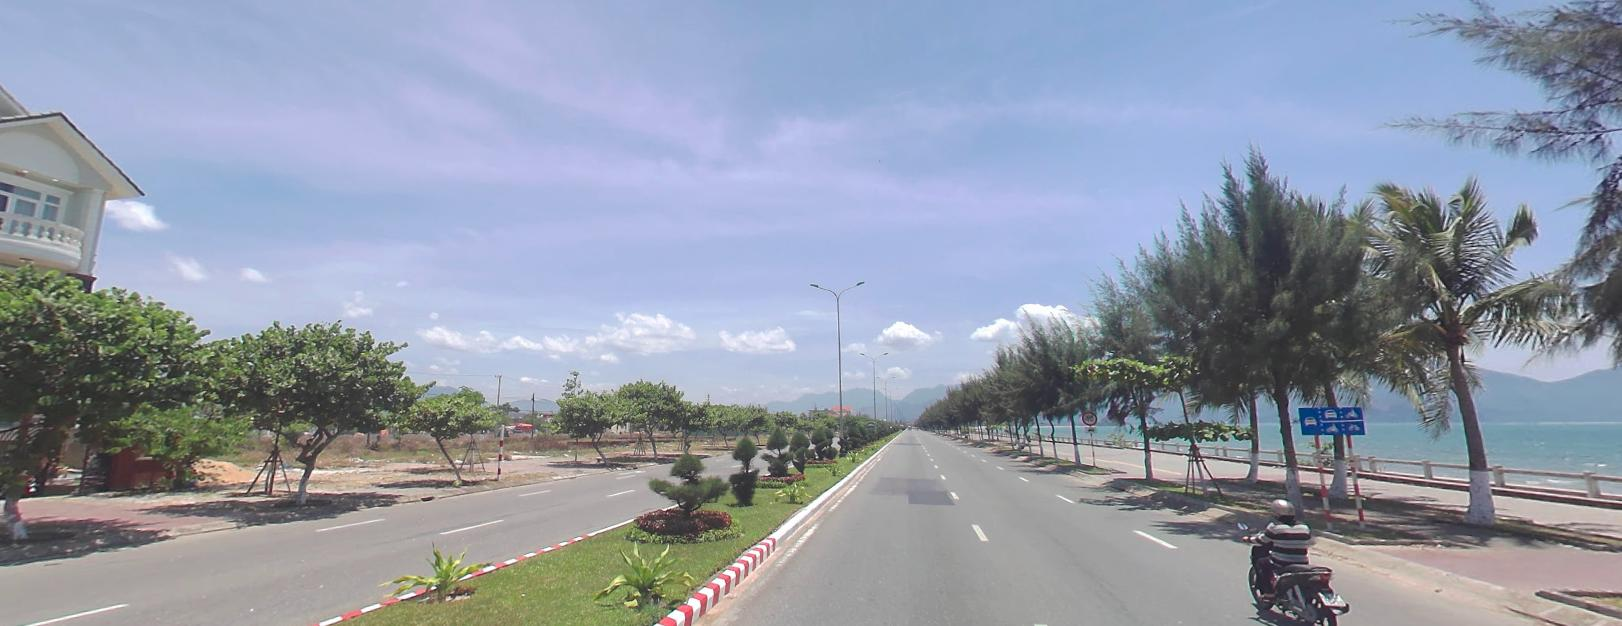Gioi han toc do: (1080, 409, 1098, 424)
